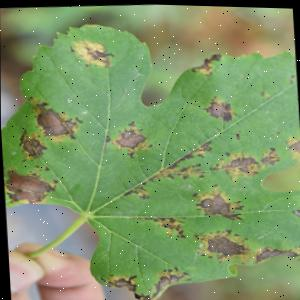Folha: (0, 6, 300, 300)
Fungo: (134, 210, 250, 261), (26, 93, 83, 143), (1, 166, 59, 206), (132, 264, 193, 300), (103, 119, 153, 159), (193, 226, 249, 258), (68, 37, 115, 70), (32, 100, 69, 138), (134, 213, 187, 239), (194, 190, 244, 217), (208, 148, 259, 172), (249, 241, 300, 264), (16, 127, 47, 162), (3, 182, 47, 206), (202, 94, 237, 122), (157, 161, 206, 180), (189, 51, 224, 76), (98, 272, 137, 293), (121, 182, 150, 200), (284, 131, 300, 158), (258, 145, 279, 165), (289, 193, 300, 228), (260, 90, 270, 97), (288, 73, 295, 83)
